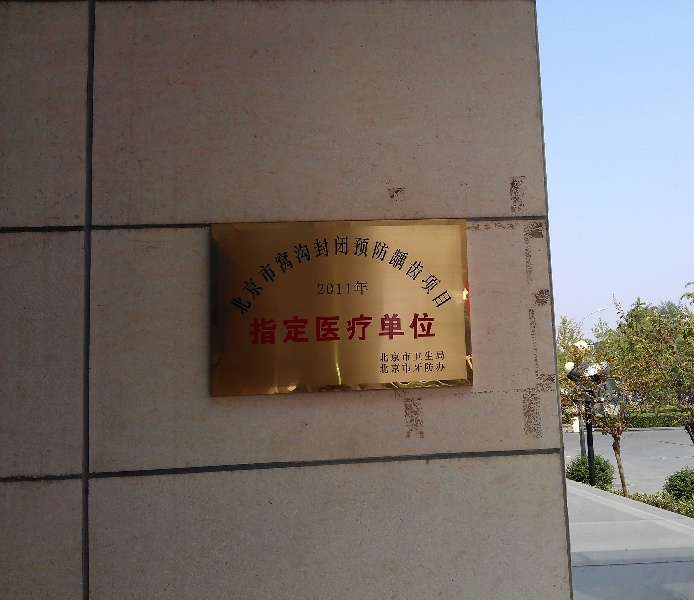text: (241, 231, 256, 317), (257, 231, 272, 317), (273, 231, 288, 317), (289, 231, 304, 317), (305, 231, 320, 317), (321, 231, 336, 317), (337, 231, 352, 317), (353, 231, 368, 317), (369, 231, 384, 317), (385, 231, 400, 317), (401, 231, 416, 317), (417, 231, 432, 317), (433, 231, 448, 317), (227, 231, 240, 317), (449, 231, 455, 317), (257, 312, 272, 346), (273, 312, 288, 346), (289, 312, 304, 346), (305, 312, 320, 346), (321, 312, 336, 346), (337, 312, 352, 346), (353, 312, 368, 346), (369, 312, 384, 346), (385, 312, 400, 346), (401, 312, 416, 346), (417, 312, 432, 346), (321, 281, 336, 297), (337, 281, 352, 297), (353, 281, 368, 297), (249, 312, 256, 346), (385, 362, 400, 375), (401, 362, 416, 375), (417, 362, 432, 375), (433, 362, 447, 375), (385, 351, 400, 363), (401, 351, 416, 363), (417, 351, 432, 363), (433, 351, 447, 363), (433, 312, 436, 346), (316, 281, 320, 297), (379, 351, 384, 363), (380, 362, 384, 375), (369, 281, 370, 297)
